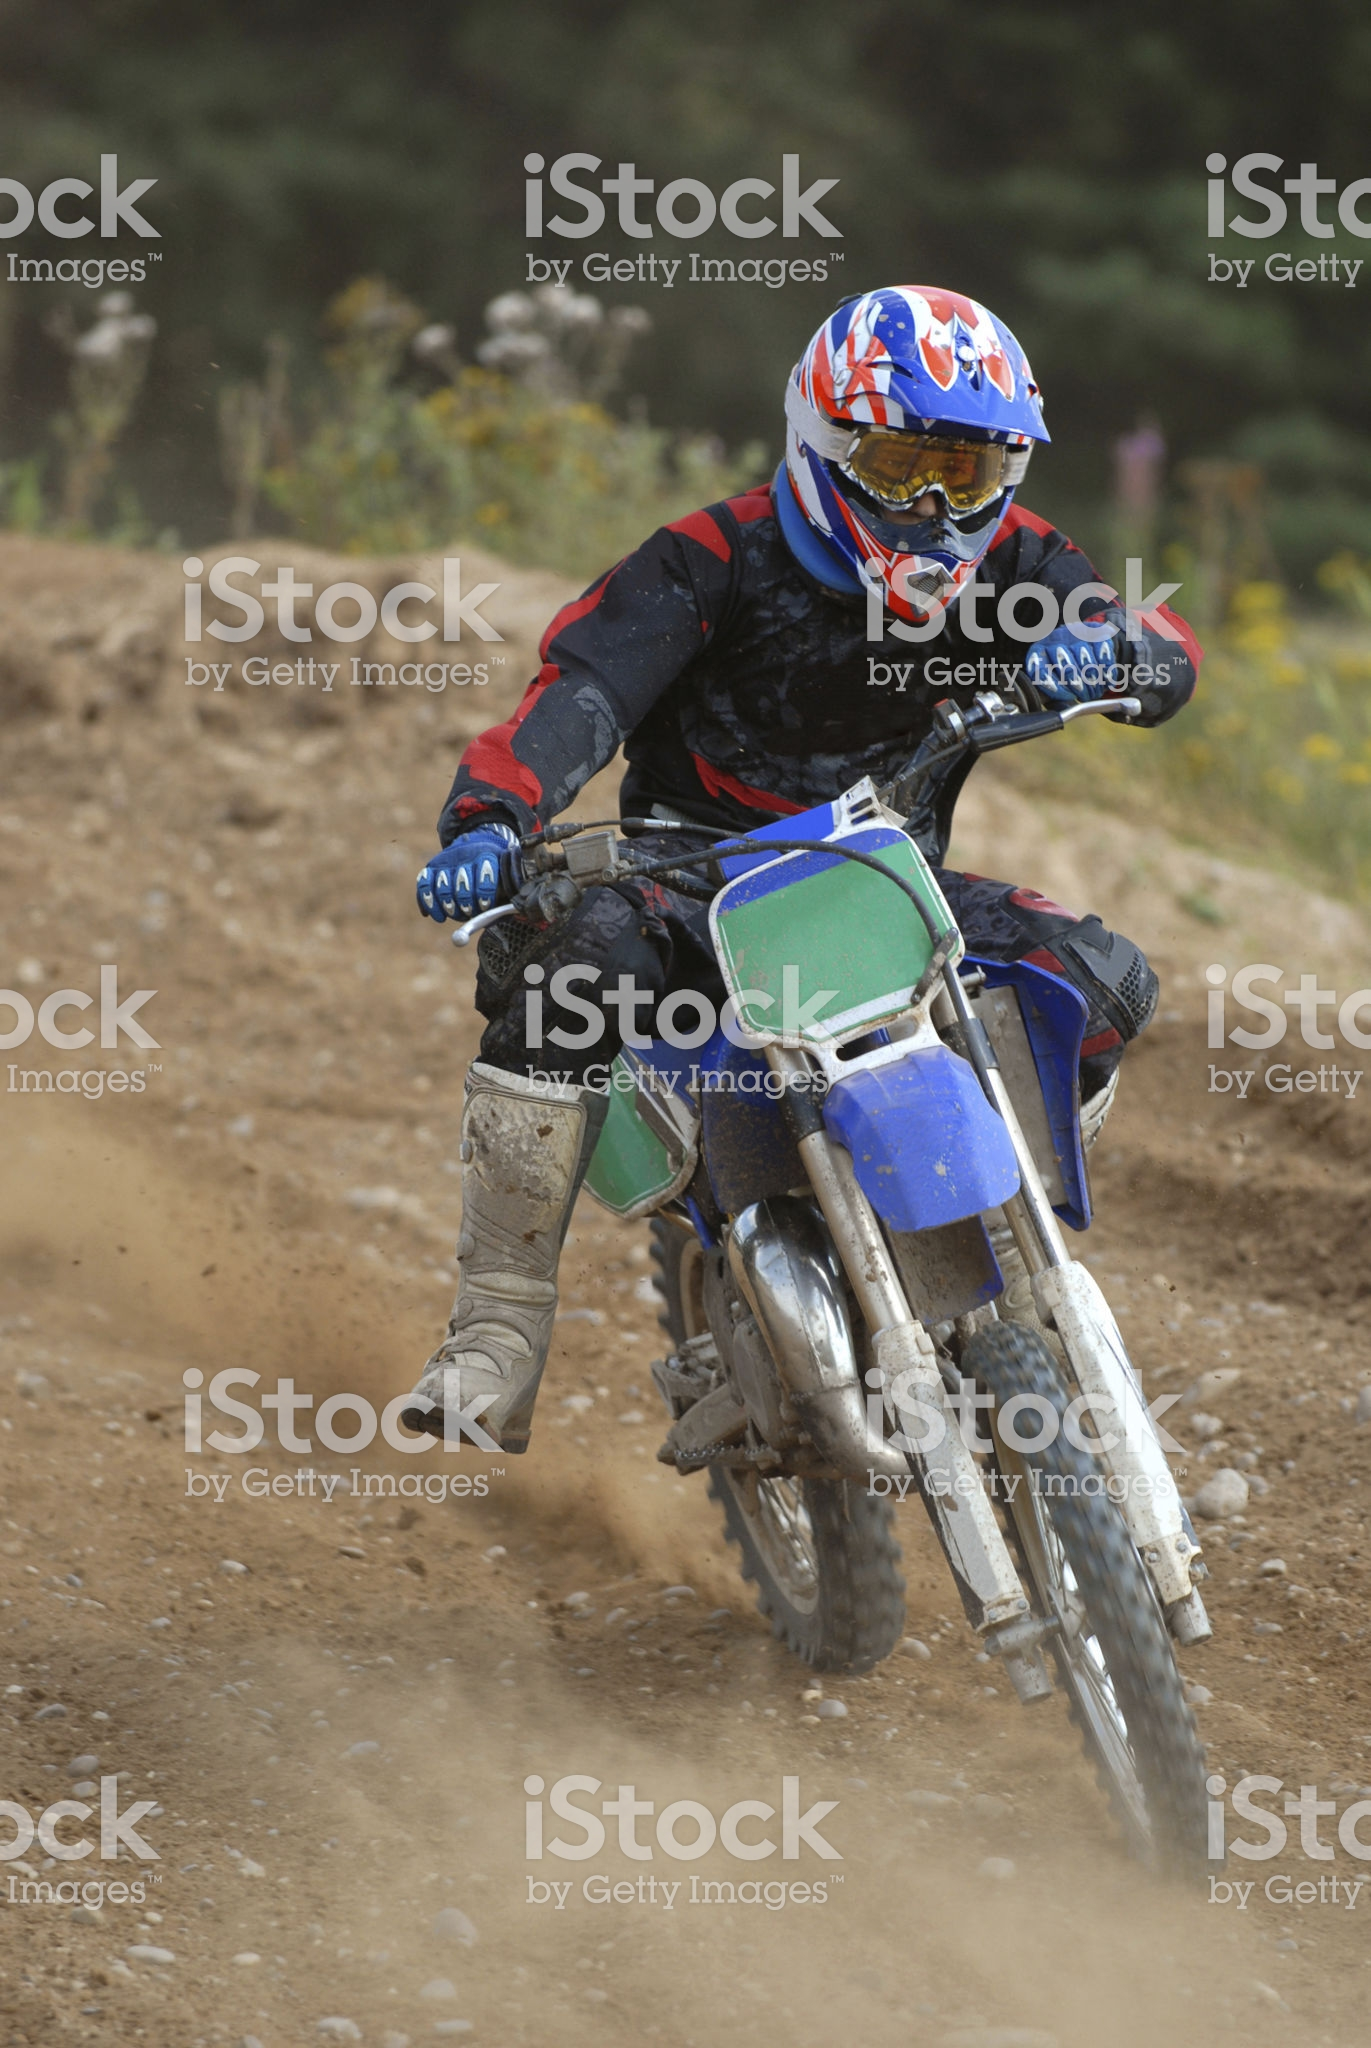helmet: (713, 260, 1079, 638)
